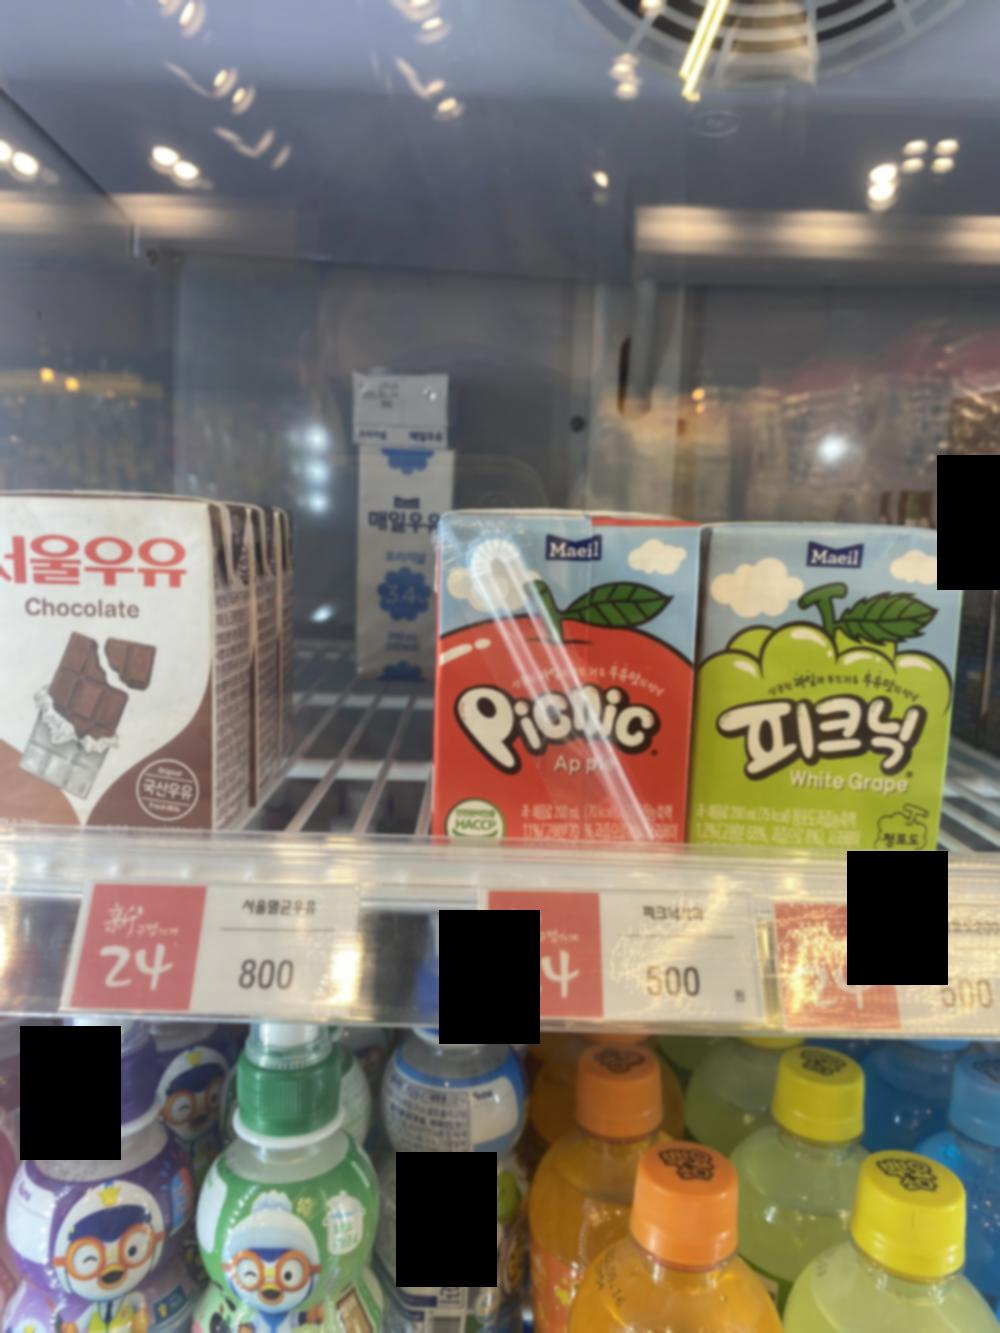picnic_apple: (431, 504, 697, 848)
